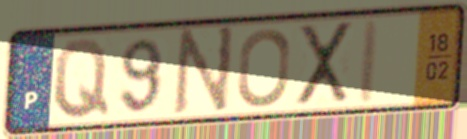9: (115, 35, 170, 116)
I: (354, 17, 383, 107)
N: (170, 23, 238, 118)
O: (235, 25, 293, 110)
Q: (52, 36, 112, 123)
X: (295, 19, 354, 110)
